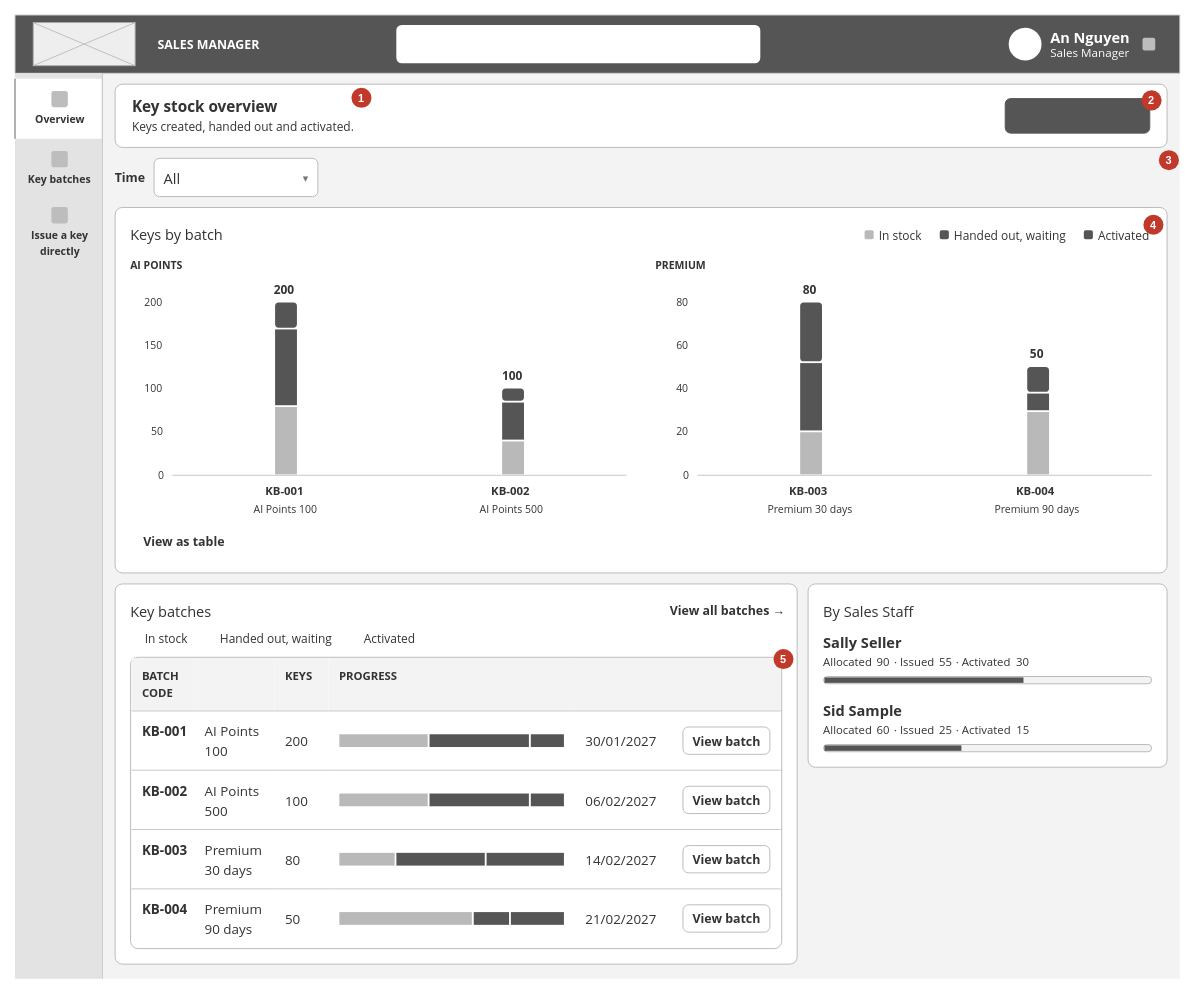
This 1195x994 diagram has some shape labels left out. Here are the shapes that lost their labels. From the top down, the box of each, then its label:
(396, 25, 760, 63): Search this page
(1008, 27, 1041, 60): AN
(1004, 98, 1150, 133): + New key batch
(194, 658, 274, 710): PRODUCT
(574, 658, 672, 710): EXPIRES
